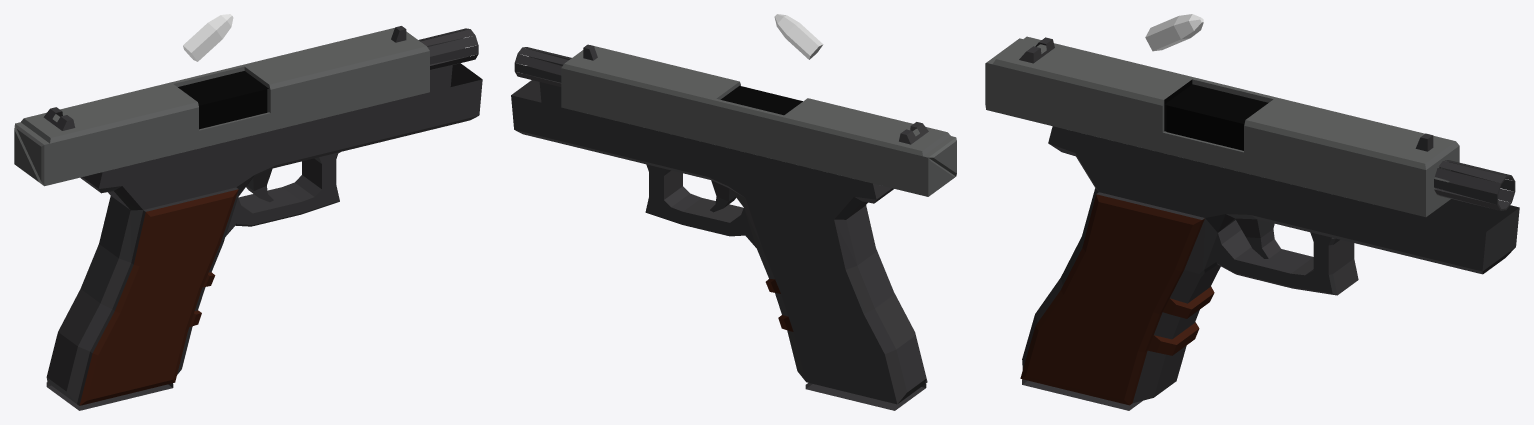
Rendered from Mesh_pistol.fbx.
3 views of the same model, side by side, from view 1: azimuth 30°, elevation 25°; view 2: azimuth 150°, elevation 25°; view 3: azimuth 330°, elevation 25° (orthographic). The views are drawn at different scales.
Visible parts, largest first — view 1: Gun, Gun.001, Cylinder; view 2: Gun, Gun.001, Cylinder; view 3: Gun, Gun.001, Cylinder.
Boxes of the visible parts, left/top/right/bottom form: Gun: left=46, top=28, right=482, bottom=410; Gun.001: left=14, top=26, right=429, bottom=186; Cylinder: left=183, top=14, right=233, bottom=61; Gun: left=511, top=47, right=927, bottom=410; Gun.001: left=561, top=44, right=956, bottom=196; Cylinder: left=774, top=14, right=823, bottom=59; Gun: left=1020, top=84, right=1519, bottom=410; Gun.001: left=985, top=36, right=1459, bottom=217; Cylinder: left=1145, top=14, right=1203, bottom=51.
Size of the model in its own units: 137 by 106 by 18.72.
